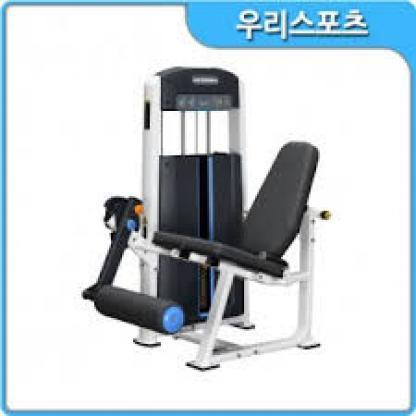leg extension: (71, 59, 340, 382)
